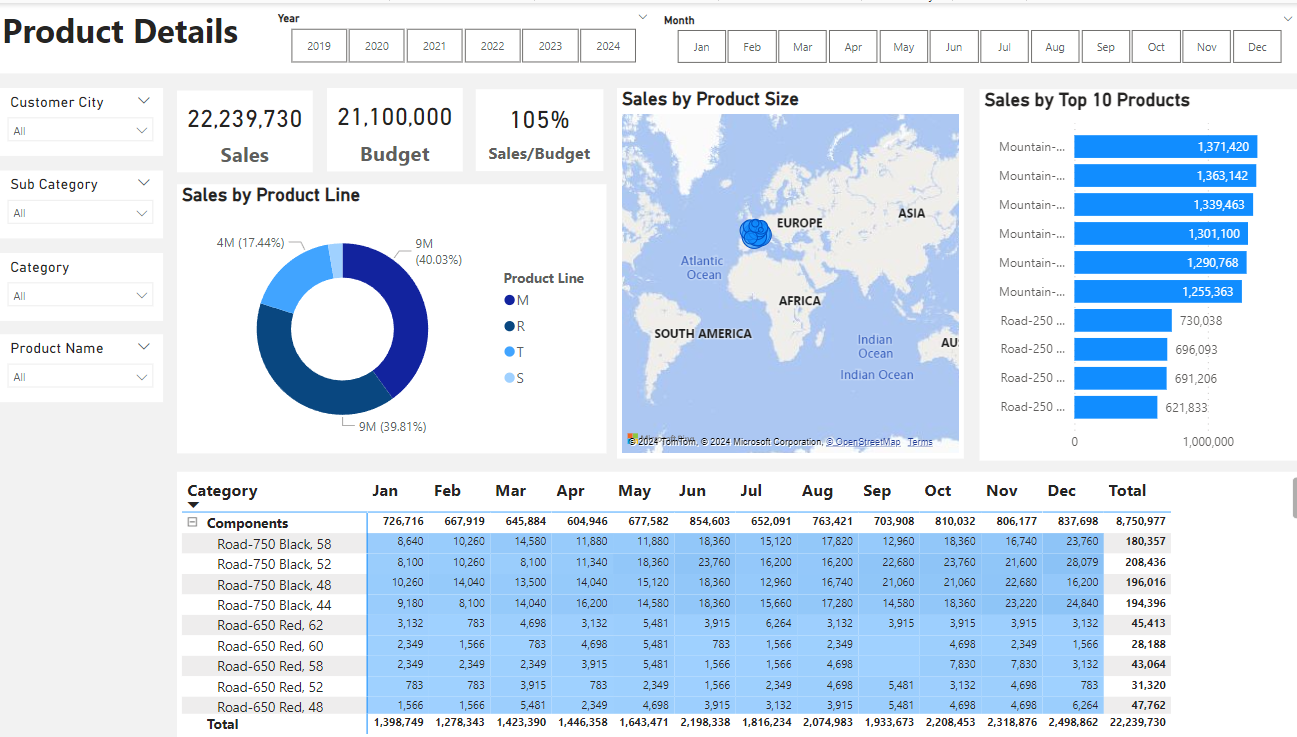

Layout of this report page (visuals, bound fields, positions):
{"tool":"powerbi","page":{"name":"Product Details","canvas":[1280,720],"ordinal":2},"visuals":[{"type":"textbox","box":[0,0,1279.9,68.5],"z":0},{"type":"slicer","fields":{"Values":["DIM Customers.Customer City"]},"box":[0,83.4,162.6,66],"z":1000},{"type":"slicer","fields":{"Values":["DIM Products.Sub Category"]},"box":[0,164.1,162.6,66],"z":2000},{"type":"slicer","fields":{"Values":["DIM Products.Product Category"]},"box":[0,244.8,162.6,66],"z":3000},{"type":"slicer","fields":{"Values":["DIM Products.Product Name"]},"box":[0,324.2,162.6,66],"z":4000},{"type":"slicer","fields":{"Values":["DIM Calender.Year"]},"box":[261.6,3.7,387.5,61.1],"z":5000},{"type":"slicer","fields":{"Values":["DIM Calender.MonthShort"]},"box":[639.5,5.4,640.8,61],"z":6000},{"type":"pivotTable","fields":{"Values":["Key Measures.Sales"],"Columns":["DIM Calender.MonthShort"],"Rows":["DIM Products.Product Category","DIM Products.Product Name"]},"box":[176.1,457.9,1104.2,261.5],"z":7000},{"type":"card","fields":{"Values":["Key Measures.Sales"]},"box":[176.1,85.4,132.8,79.9],"z":8000},{"type":"card","fields":{"Values":["Key Measures.Budget Sum"]},"box":[322.4,82.6,132.8,81.3],"z":9000},{"type":"donutChart","fields":{"Y":["Key Measures.Sales"],"Category":["DIM Products.Product Line"]},"box":[176.1,177.5,420,262.8],"z":10000},{"type":"map","fields":{"Category":["DIM Customers.Customer City"],"Size":["Key Measures.Sales"]},"box":[606.5,83.7,338.9,362.3],"z":11000},{"type":"barChart","title":"Sales by Top 10 Products","fields":{"Y":["Key Measures.Sales"],"Category":["DIM Products.Product Name"]},"box":[960.3,84,319.7,363.1],"z":12000},{"type":"card","fields":{"Values":["Key Measures.Sales/Budget Amount"]},"box":[468.8,84,124.6,79.9],"z":13000}]}

Visuals, with their boxes in screenshot pixels (x1, y1, x2, y2), scaled from the page's 1280x720 canvas onto the 1297x737 screenshot:
textbox: Rect(0, 0, 1296, 70)
slicer - DIM Customers.Customer City: Rect(0, 85, 165, 153)
slicer - DIM Products.Sub Category: Rect(0, 168, 165, 236)
slicer - DIM Products.Product Category: Rect(0, 251, 165, 318)
slicer - DIM Products.Product Name: Rect(0, 332, 165, 399)
slicer - DIM Calender.Year: Rect(265, 4, 658, 66)
slicer - DIM Calender.MonthShort: Rect(648, 6, 1296, 68)
pivotTable - Key Measures.Sales x DIM Calender.MonthShort: Rect(178, 469, 1296, 736)
card - Key Measures.Sales: Rect(178, 87, 313, 169)
card - Key Measures.Budget Sum: Rect(327, 85, 461, 168)
donutChart - Key Measures.Sales x DIM Products.Product Line: Rect(178, 182, 604, 451)
map - DIM Customers.Customer City x Key Measures.Sales: Rect(615, 86, 958, 457)
"Sales by Top 10 Products" barChart: Rect(973, 86, 1296, 458)
card - Key Measures.Sales/Budget Amount: Rect(475, 86, 601, 168)
